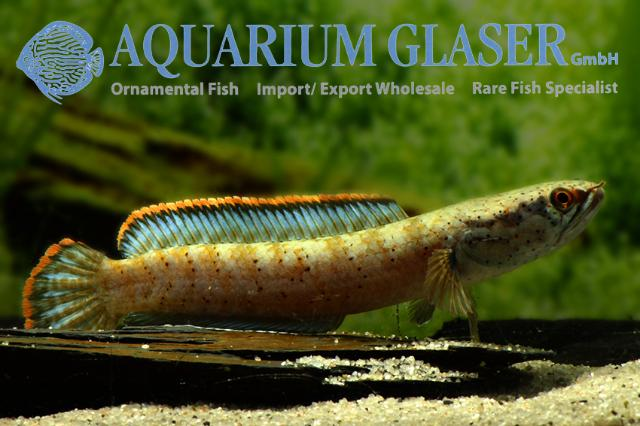Mulut: (546, 177, 610, 255)
Sirip Anal: (116, 305, 362, 341)
Sirip Dada: (427, 248, 479, 320), (401, 295, 445, 329)
Sirip Ekor: (15, 226, 120, 352)
Sirip Punggung: (103, 187, 413, 267)
